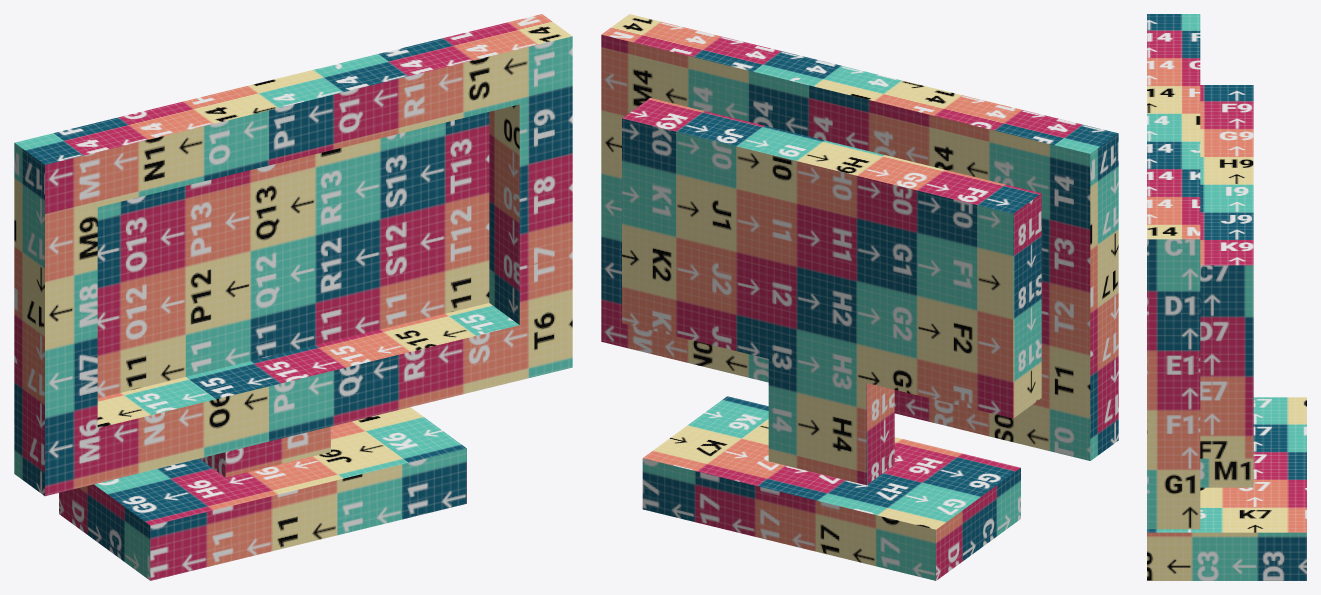
The model's file is golden_fix.fbx.
3 renders of one model, left to right at view 1: azimuth 30°, elevation 25°; view 2: azimuth 150°, elevation 25°; view 3: azimuth 270°, elevation 25°, orthographic. The views are drawn at different scales.
Visible parts, largest first — view 1: GDM; view 2: GDM; view 3: GDM.
Part boxes in pixels (left/top/right/bottom): GDM: left=14, top=14, right=572, bottom=580; GDM: left=601, top=14, right=1118, bottom=580; GDM: left=1147, top=14, right=1306, bottom=580.
Size of the model in its own units: 100 by 80 by 30.
1 material, 1 textured.
